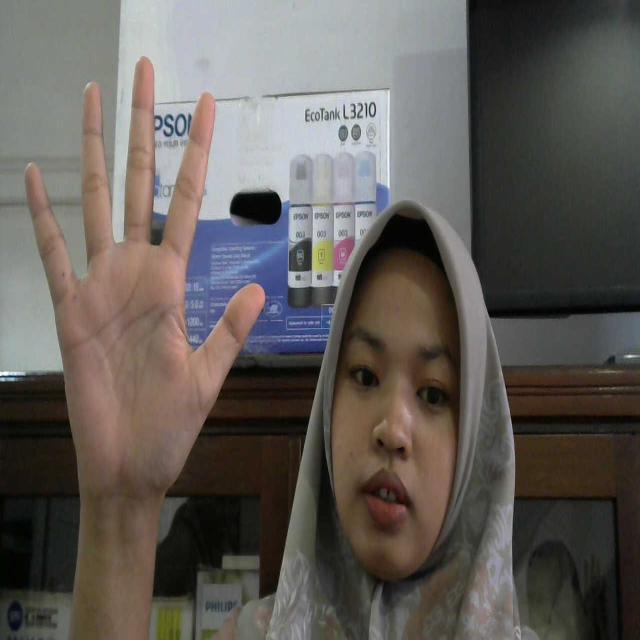hand: (24, 59, 266, 568)
